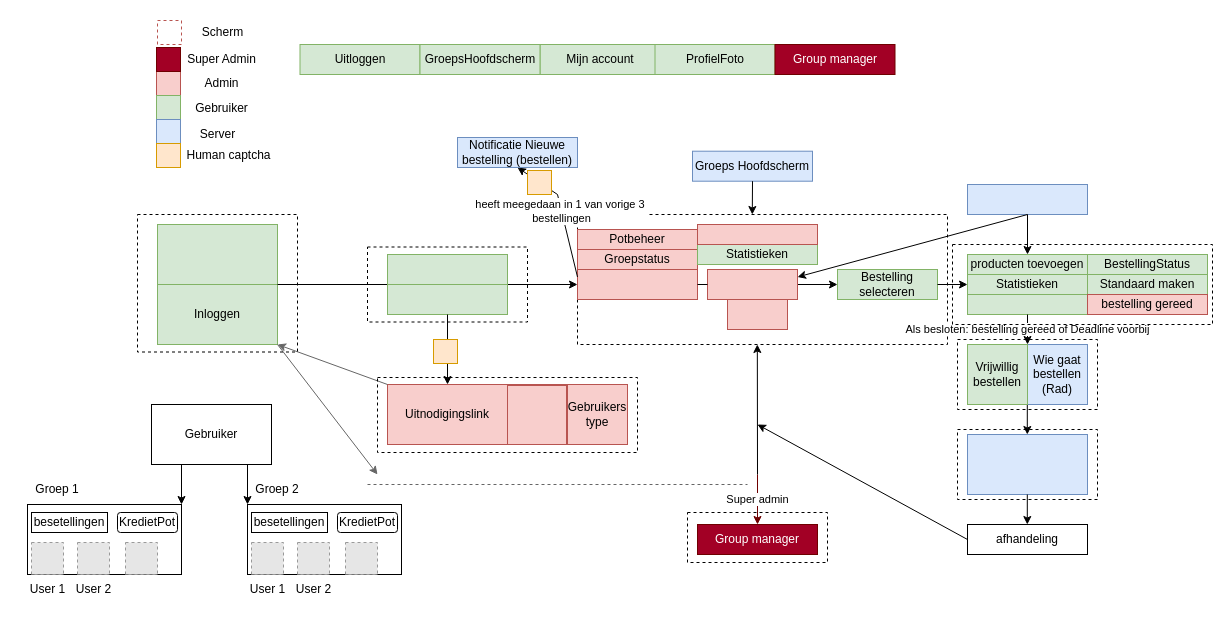
The diagram is 1230 pixels wide and 621 high, and some of its shapes have lost their labels. Grey dashed boxes stand in for pictures. The box of each missing label's shape, as (x1, y1, x2, y2) in pixels:
Account aanmaken: (156, 224, 278, 284)
Account Gegevens: (966, 294, 1088, 314)
Bestelling aanmaken: (576, 268, 698, 300)
Deadline instellen: (726, 298, 788, 330)
Duur(aan tal best ellingen): (506, 384, 566, 444)
Gladtrekken knop: (696, 224, 818, 244)
Groep aanmaken: (386, 284, 508, 314)
Groep selecteren: (386, 254, 508, 284)
Leverancier kiezen: (706, 268, 798, 300)
Thuisbezorgd API: (966, 184, 1088, 214)
Wie gaat betalen (Rad): (966, 434, 1088, 494)
